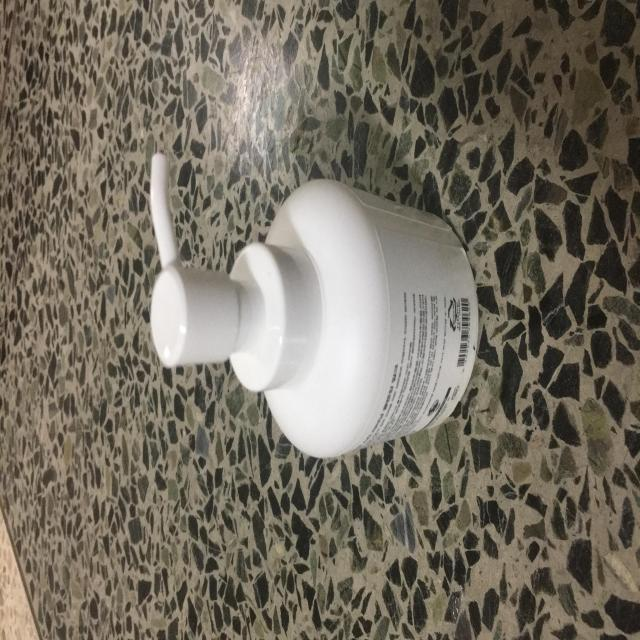bottle: (140, 137, 515, 505)
